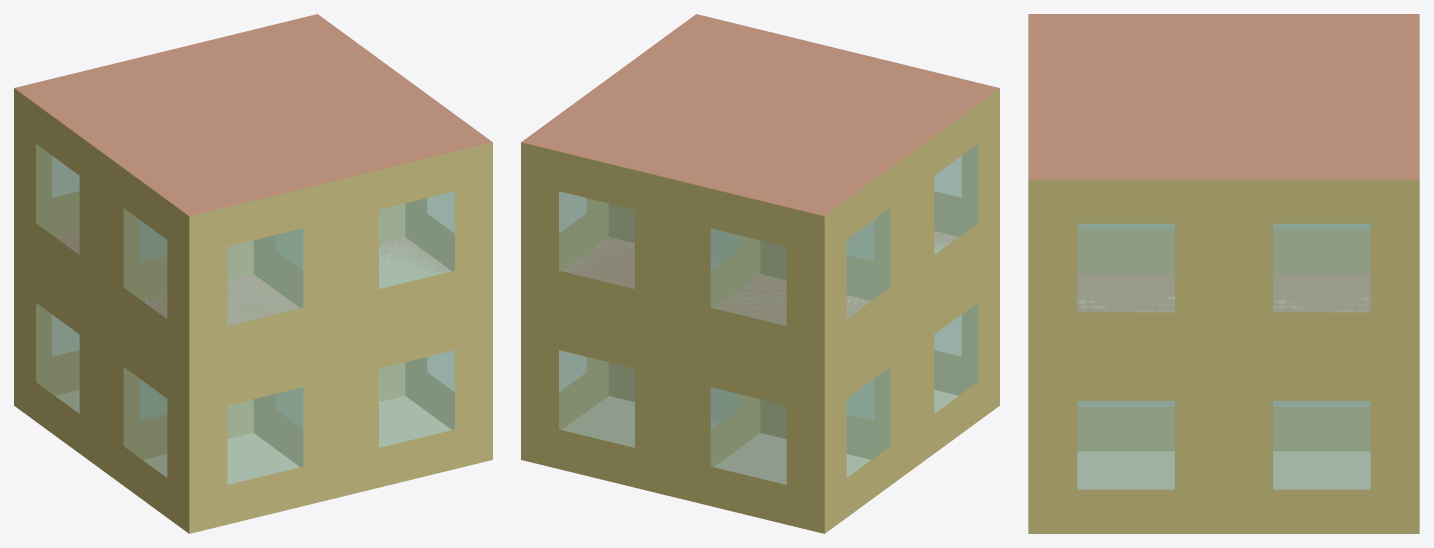
The model's file is Space_SurfaceMatch_LargeTest.gltf.
The picture shows the model from 3 angles, left to right: view 1: azimuth 30°, elevation 25°; view 2: azimuth 150°, elevation 25°; view 3: azimuth 270°, elevation 25°; orthographic projection. The views are drawn at different scales.
Visible parts, largest first — view 1: Surface 4, Surface 10, Surface 34, Surface 28, Surface 36, Surface 48, Surface 12, Surface 24, Surface 5, Surface 11, Surface 23, Surface 17 (+32 smaller); view 2: Surface 14, Surface 20, Surface 44, Surface 38, Surface 36, Surface 48, Surface 24, Surface 12, Surface 17, Surface 23, Surface 11, Surface 5 (+31 smaller); view 3: Surface 27, Surface 33, Surface 39, Surface 45, Surface 36, Surface 48, Surface 12, Surface 24, Sub Surface 23, Sub Surface 31, Sub Surface 19, Sub Surface 27 (+12 smaller).
Boxes of the visible parts, x1=… form: Surface 4: x1=189, y1=338, x2=340, y2=533; Surface 10: x1=189, y1=179, x2=340, y2=374; Surface 34: x1=341, y1=142, x2=492, y2=337; Surface 28: x1=341, y1=301, x2=492, y2=496; Surface 36: x1=254, y1=78, x2=492, y2=179; Surface 48: x1=166, y1=14, x2=404, y2=114; Surface 12: x1=102, y1=115, x2=340, y2=216; Surface 24: x1=14, y1=51, x2=252, y2=151; Surface 5: x1=101, y1=311, x2=189, y2=533; Surface 11: x1=101, y1=152, x2=189, y2=374; Surface 23: x1=14, y1=88, x2=101, y2=310; Surface 17: x1=14, y1=247, x2=101, y2=469; Surface 14: x1=673, y1=338, x2=824, y2=533; Surface 20: x1=673, y1=179, x2=824, y2=374; Surface 44: x1=521, y1=142, x2=672, y2=337; Surface 38: x1=521, y1=301, x2=672, y2=496; Surface 36: x1=609, y1=14, x2=847, y2=114; Surface 48: x1=521, y1=78, x2=759, y2=179; Surface 24: x1=673, y1=115, x2=911, y2=216; Surface 12: x1=761, y1=51, x2=999, y2=151; Surface 17: x1=824, y1=311, x2=912, y2=533; Surface 23: x1=824, y1=152, x2=912, y2=374; Surface 11: x1=912, y1=88, x2=999, y2=310; Surface 5: x1=912, y1=247, x2=999, y2=469; Surface 27: x1=1028, y1=356, x2=1223, y2=533; Surface 33: x1=1028, y1=179, x2=1223, y2=356; Surface 39: x1=1224, y1=356, x2=1419, y2=533; Surface 45: x1=1224, y1=179, x2=1419, y2=356; Surface 36: x1=1028, y1=96, x2=1223, y2=179; Surface 48: x1=1224, y1=96, x2=1419, y2=179; Surface 12: x1=1028, y1=14, x2=1223, y2=96; Surface 24: x1=1224, y1=14, x2=1419, y2=96; Sub Surface 23: x1=1077, y1=223, x2=1174, y2=312; Sub Surface 31: x1=1273, y1=223, x2=1370, y2=312; Sub Surface 19: x1=1077, y1=401, x2=1174, y2=489; Sub Surface 27: x1=1273, y1=401, x2=1370, y2=489.
Size of the model in its own units: 2 by 2 by 2.
